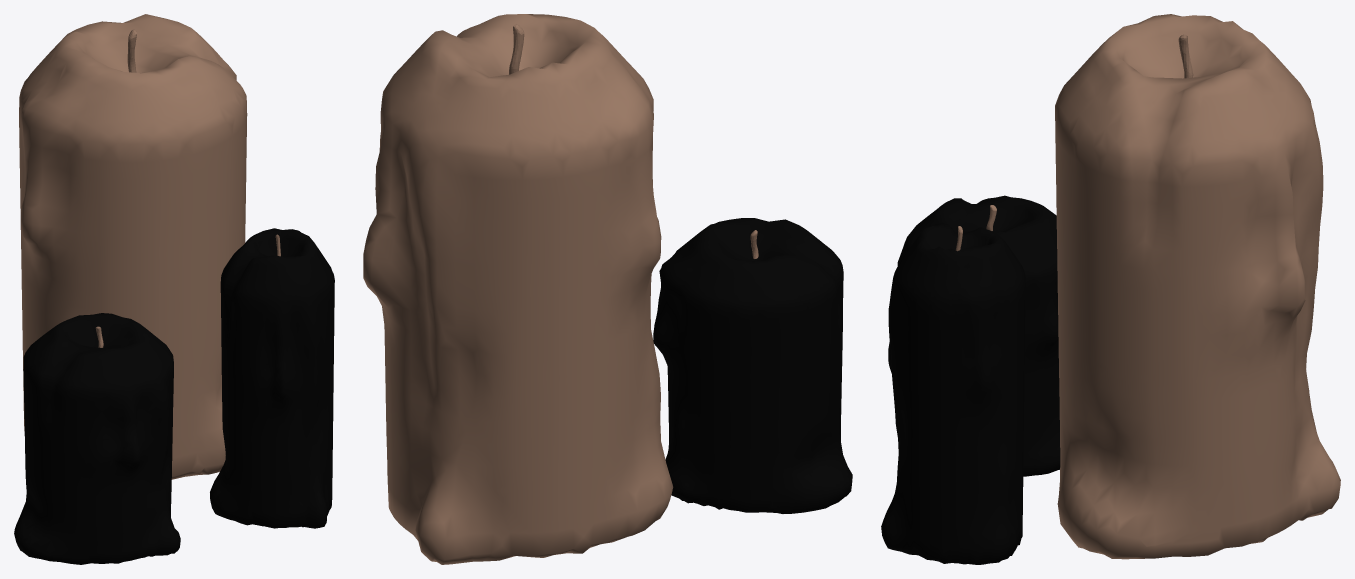
File: candle_ver2.fbx
The picture shows the model from 3 angles, left to right: view 1: azimuth 30°, elevation 25°; view 2: azimuth 150°, elevation 25°; view 3: azimuth 270°, elevation 25°; orthographic projection. The views are drawn at different scales.
Visible parts, largest first — view 1: Cylinder.002; view 2: Cylinder.002; view 3: Cylinder.002.
Boxes of the visible parts, x1=… form: Cylinder.002: x1=14, y1=14, x2=334, y2=564; Cylinder.002: x1=363, y1=14, x2=852, y2=564; Cylinder.002: x1=881, y1=14, x2=1340, y2=564.
Size of the model in its own units: 449 by 593 by 514.
